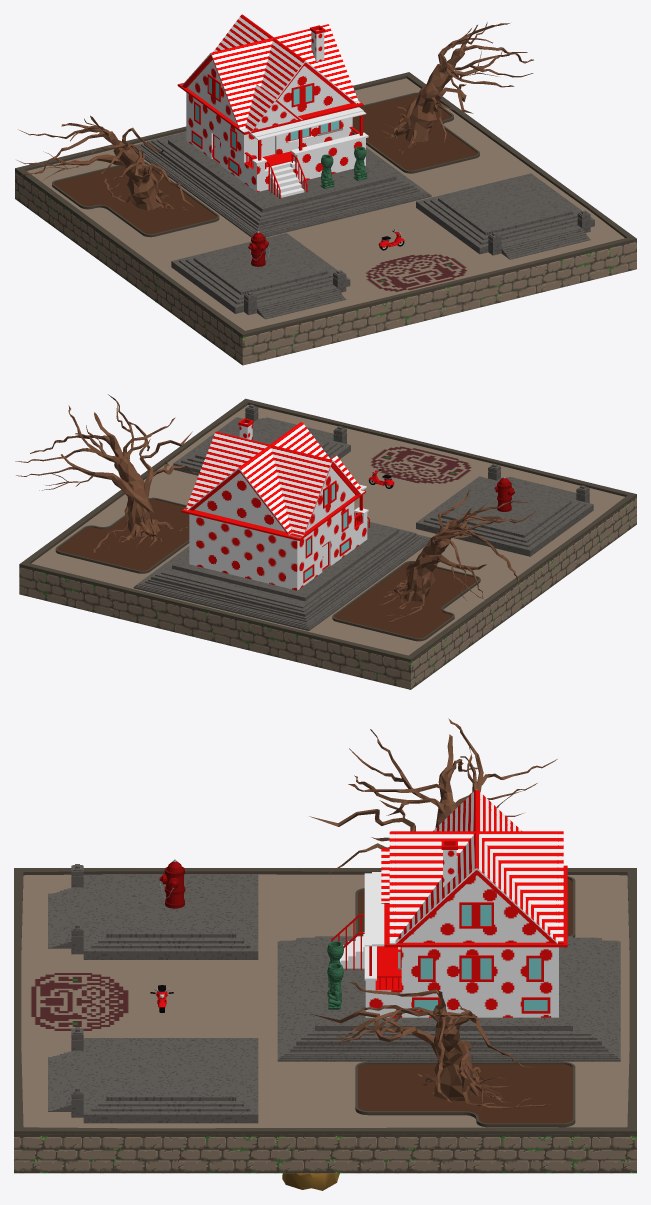
3 views of the same model, one above another, from view 1: azimuth 30°, elevation 25°; view 2: azimuth 150°, elevation 25°; view 3: azimuth 270°, elevation 25° (orthographic). The views are drawn at different scales.
Visible parts, largest first — view 1: Cube.011, Cube.196, OBJRANDOM_FIRE_HYDRANT; view 2: Cube.011, Cube.196, OBJRANDOM_FIRE_HYDRANT; view 3: Cube.011, Cube.196, OBJRANDOM_FIRE_HYDRANT, UNDERGROUND_T_REX_BONES.
Boxes of the visible parts, x1,y1,x2,y2 form: Cube.011: (15, 22, 636, 365); Cube.196: (177, 14, 368, 198); OBJRANDOM_FIRE_HYDRANT: (248, 231, 269, 266); Cube.011: (15, 394, 636, 689); Cube.196: (181, 418, 369, 590); OBJRANDOM_FIRE_HYDRANT: (494, 476, 515, 511); Cube.011: (14, 718, 636, 1173); Cube.196: (331, 789, 567, 1017); OBJRANDOM_FIRE_HYDRANT: (159, 859, 185, 908); UNDERGROUND_T_REX_BONES: (282, 1173, 339, 1190).
Size of the model in its own units: 5099 by 1773 by 4000.
26 materials, 6 textured.
